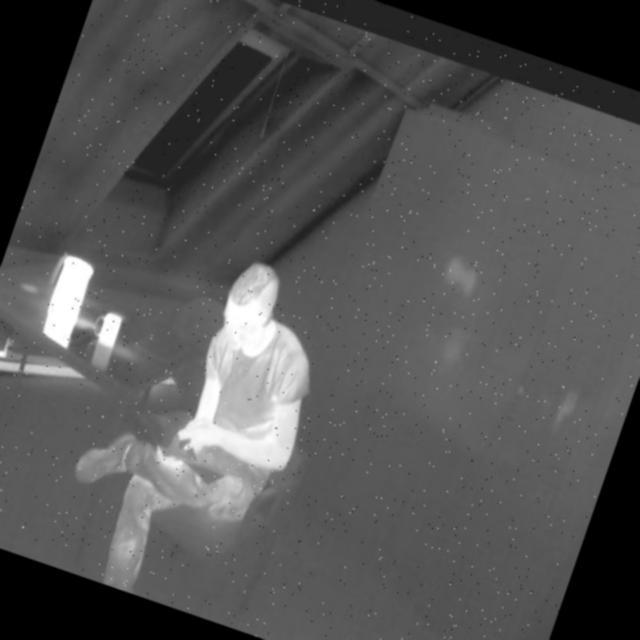person: (38, 222, 350, 628)
